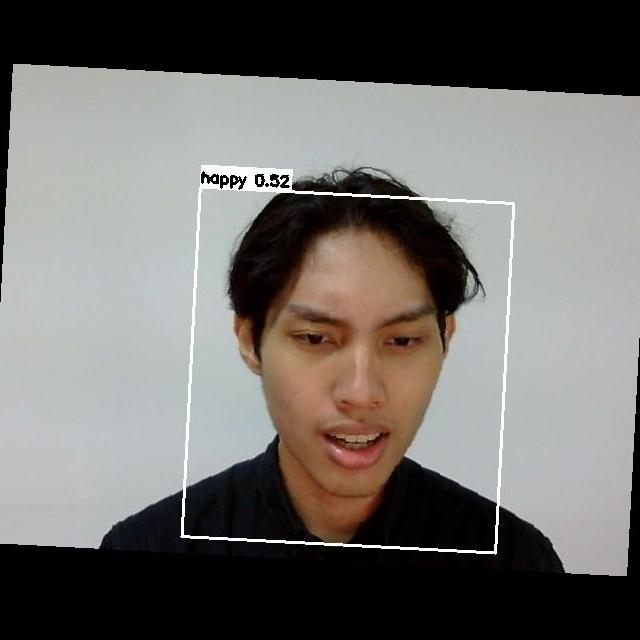Angry: (244, 276, 455, 471)
